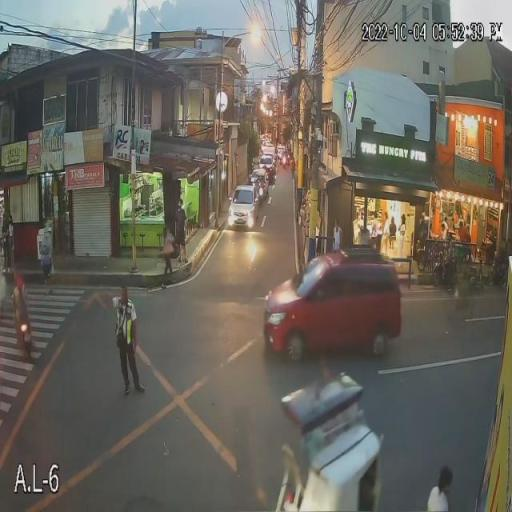helmet: (12, 270, 25, 289)
motorcycle: (11, 295, 36, 366)
rider: (13, 286, 30, 324)
